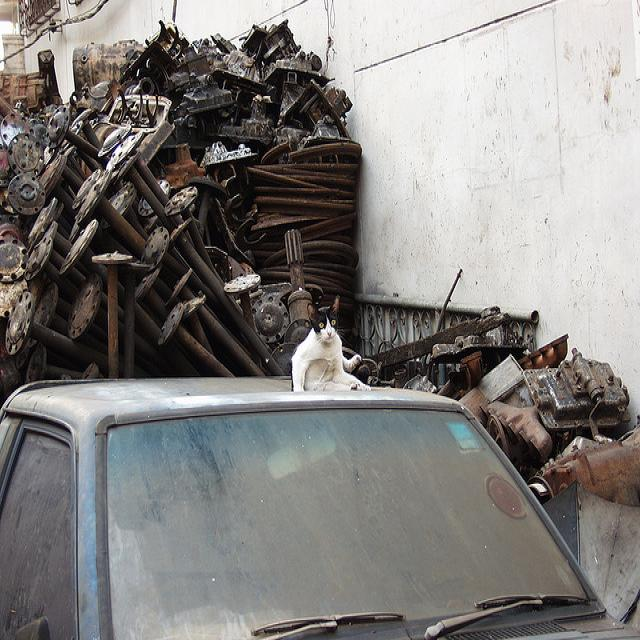Vehicle: (1, 368, 633, 633)
